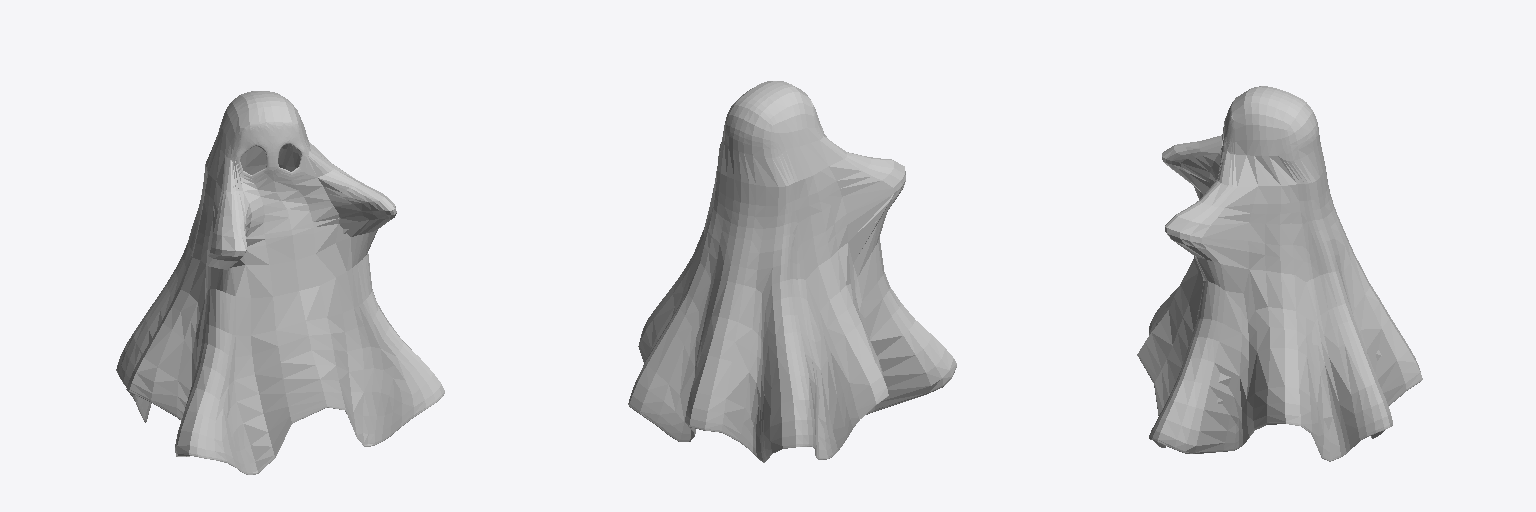
The picture shows the model from 3 angles: view 1: azimuth 30°, elevation 25°; view 2: azimuth 150°, elevation 25°; view 3: azimuth 270°, elevation 25°; orthographic projection.
Parts seen in each view (by area): view 1: youlinguu2:Group3 walk1; view 2: youlinguu2:Group3 walk1; view 3: youlinguu2:Group3 walk1.
Part boxes in pixels (x1,y1,x2,y2): youlinguu2:Group3 walk1: (116,91,444,474); youlinguu2:Group3 walk1: (628,81,956,462); youlinguu2:Group3 walk1: (1137,86,1422,461).
Size of the model in its own units: 33.16 by 39.68 by 31.23.